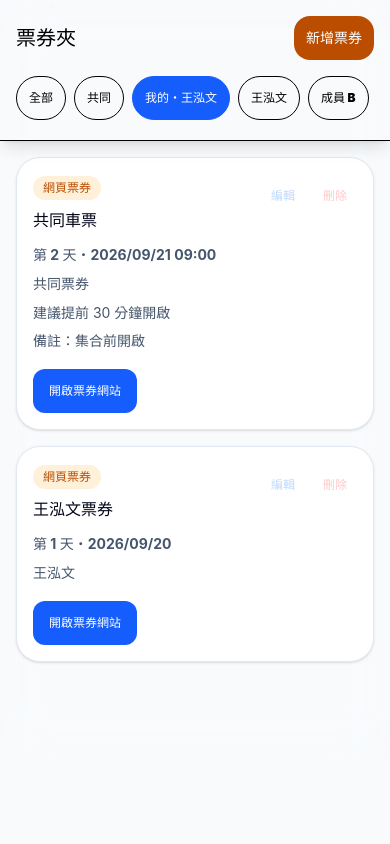
Test: TicketWalletSection › filters all, common, and member views while keeping common tickets unique
Click the button with test id "ticket-filter-all" at (41, 98), box [16, 76, 66, 120]
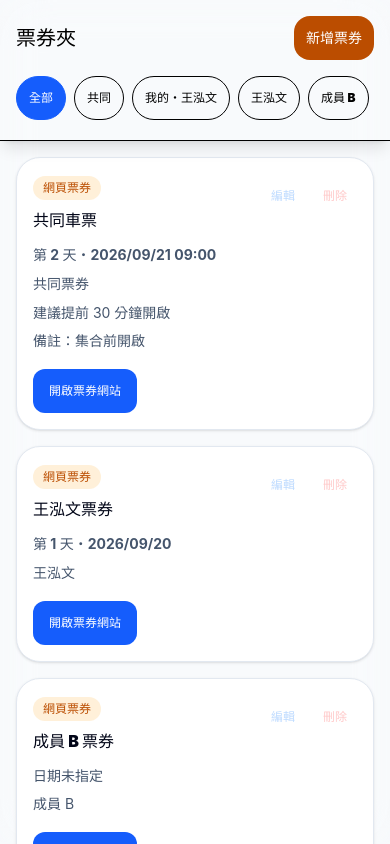
Result: the number of elements with test id "ticket-card" is 3 at [16, 157, 374, 430]; [16, 446, 374, 662]; [16, 678, 374, 843]
Click the button with test id "ticket-filter-common" at (99, 98), box [74, 76, 124, 120]
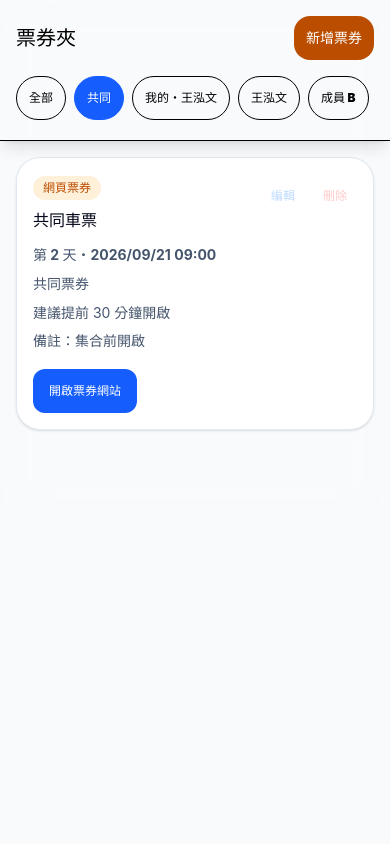
Expected: the heading "共同車票" is shown, [33, 208, 101, 232]
Result: the number of elements with test id "ticket-card" is 1 at [16, 157, 374, 430]
Click the button with test id "ticket-filter-member" at (269, 98), box [238, 76, 300, 120]
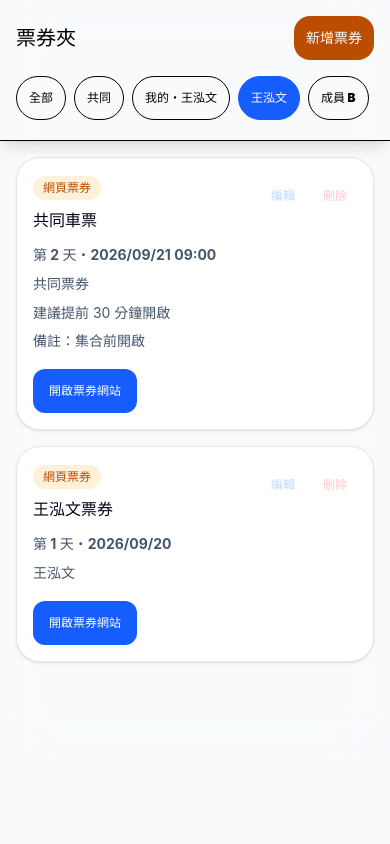
Expected: the heading "成員 B 票券" is not shown
Result: the number of elements with test id "ticket-card" is 2 at [16, 157, 374, 430]; [16, 446, 374, 662]
Result: the heading "王泓文票券" is shown at [33, 497, 113, 521]
